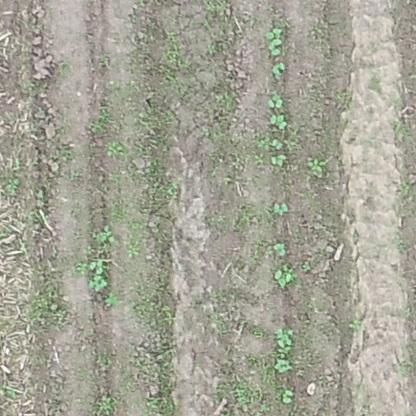vc: (264, 27, 285, 54), (274, 265, 293, 288), (84, 275, 109, 291), (277, 327, 294, 346), (269, 113, 289, 129), (272, 359, 293, 374), (86, 258, 105, 274), (268, 94, 284, 110), (272, 61, 286, 78), (282, 388, 295, 406), (274, 241, 289, 256), (274, 202, 290, 216), (270, 154, 287, 166), (268, 138, 285, 149)
